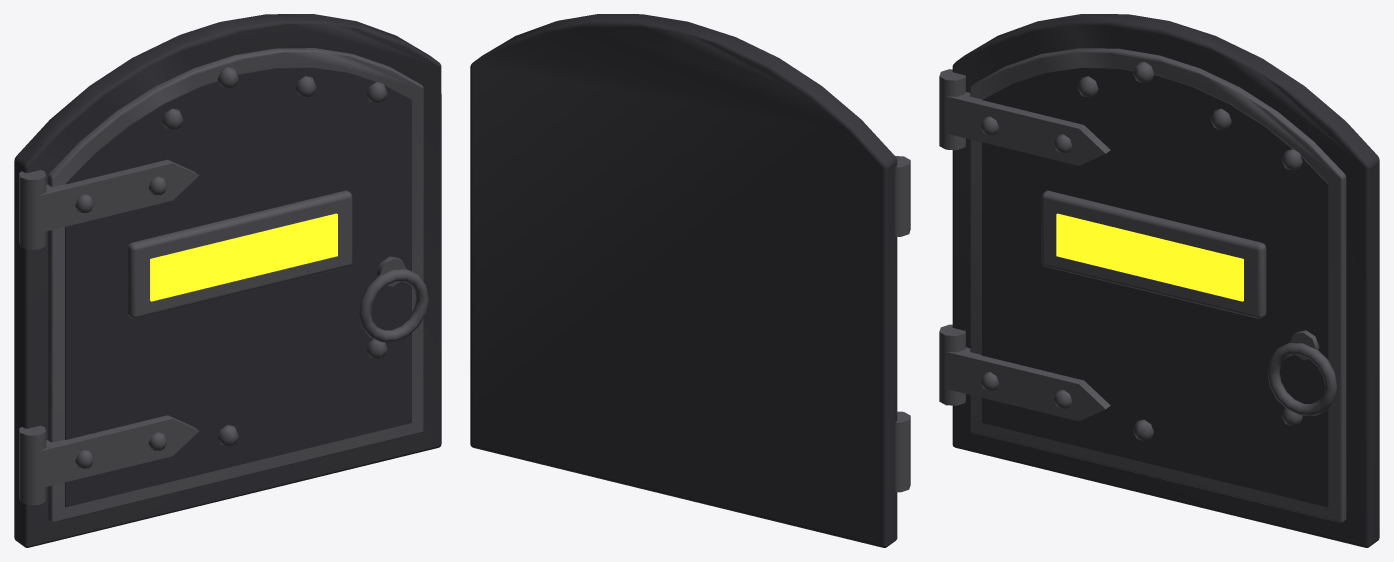
The model's file is FurnaceDoor.fbx.
3 renders of one model, left to right at view 1: azimuth 30°, elevation 25°; view 2: azimuth 150°, elevation 25°; view 3: azimuth 330°, elevation 25°, orthographic.
Visible parts, largest first — view 1: FurnaceDoor_iron, FurnaceDoor_strap, FurnaceDoor_glow; view 2: FurnaceDoor_iron, FurnaceDoor_strap; view 3: FurnaceDoor_iron, FurnaceDoor_strap, FurnaceDoor_glow.
Part boxes in pixels (box(x1,y1,x2,y2)): FurnaceDoor_iron: box(14, 14, 441, 547); FurnaceDoor_strap: box(19, 48, 428, 522); FurnaceDoor_glow: box(150, 213, 337, 301); FurnaceDoor_iron: box(470, 14, 897, 547); FurnaceDoor_strap: box(895, 156, 910, 492); FurnaceDoor_iron: box(952, 14, 1379, 547); FurnaceDoor_strap: box(939, 48, 1346, 522); FurnaceDoor_glow: box(1056, 213, 1243, 301).
Size of the model in its own units: 1.92 by 2.02 by 0.215.
